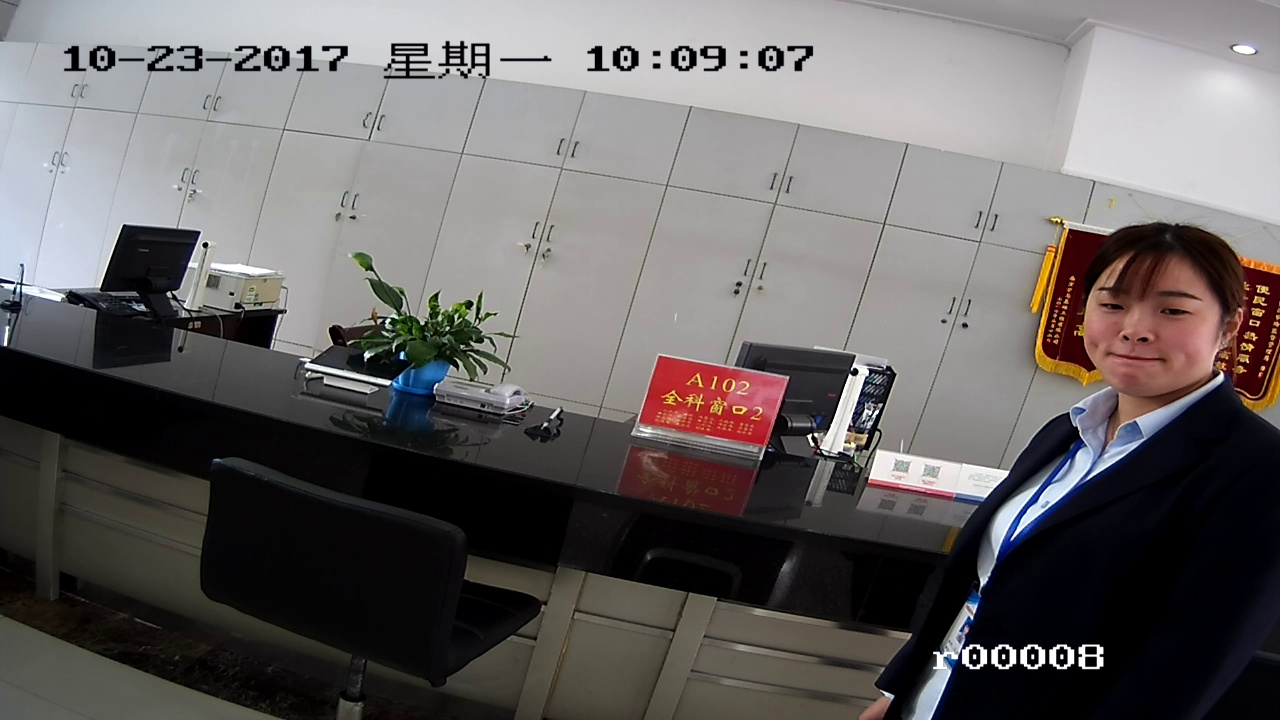billboard: (643, 360, 770, 468)
chair: (184, 483, 526, 720)
monitor: (105, 218, 196, 328)
person: (1063, 235, 1243, 570)
pot: (354, 268, 501, 423)
